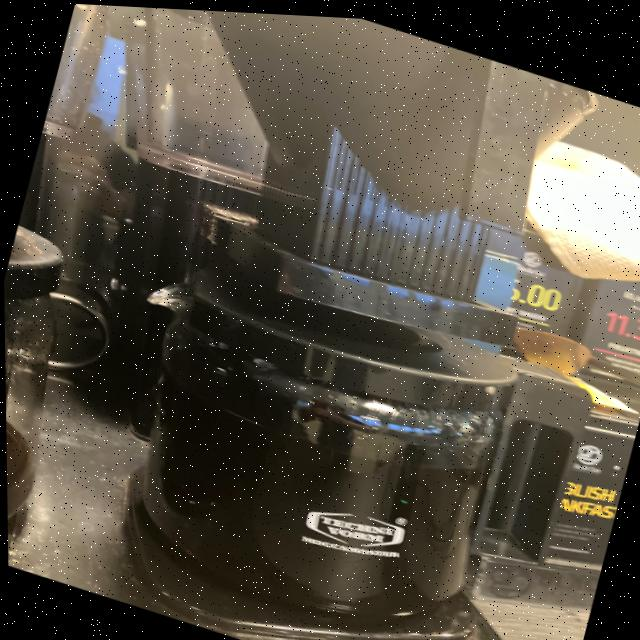coffee: (85, 228, 580, 640), (2, 194, 150, 584)
